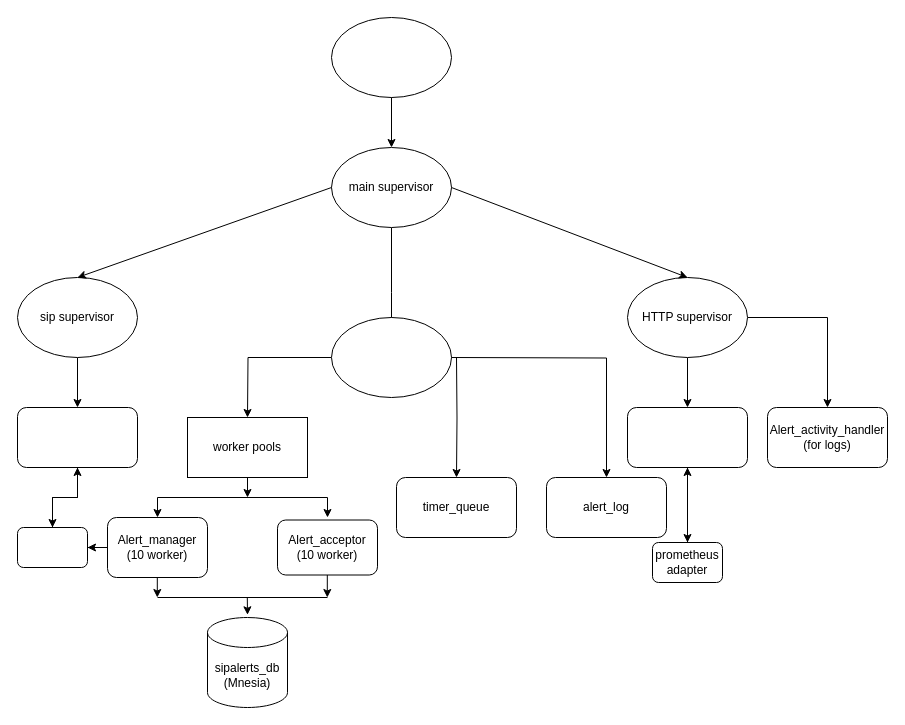
The diagram is 905 pixels wide and 725 high, and some of its shapes have lost their labels. Each missing label, with the box of its shape:
Alert supervisor: (330, 316, 452, 398)
Alert_handler: (626, 406, 748, 468)
application: (330, 16, 452, 98)
sip channel: (16, 526, 88, 568)
sip_server: (16, 406, 138, 468)
